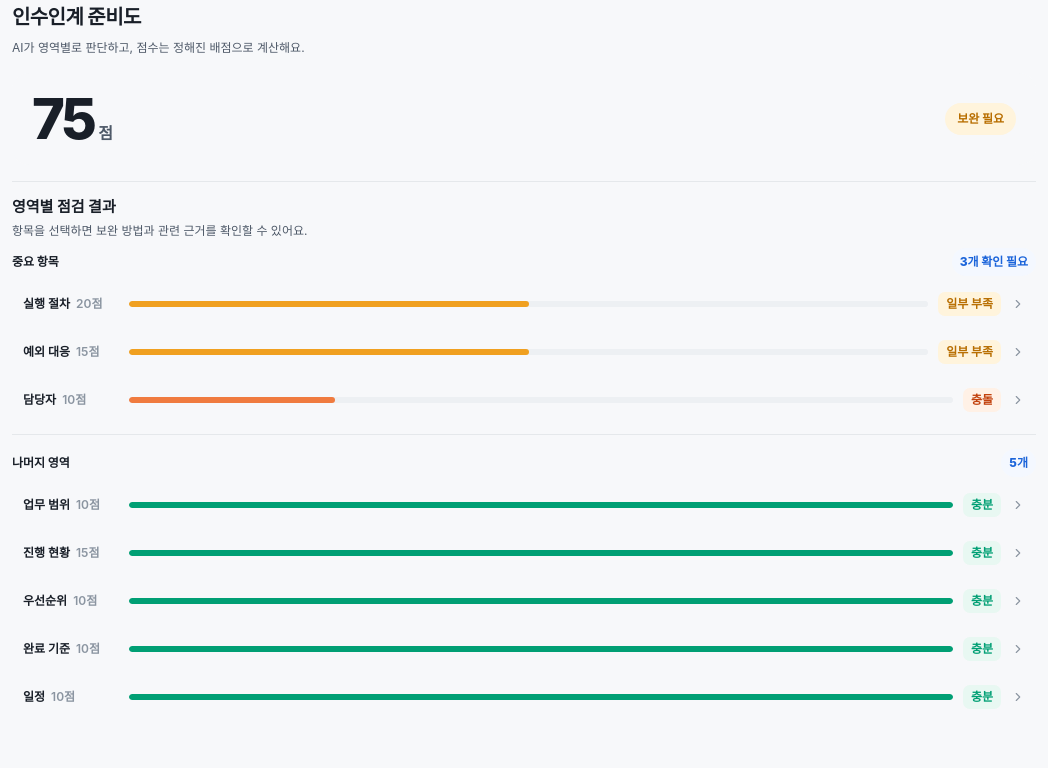
Test: ReadinessPanel › shows the score and the key issues with their evidence
Expected: the text "75" is shown, [32,91,94,147]
Expected: the text "보완 필요" is shown, [945,103,1016,135]
What coordinates should you click on to do the following:
click the button "실행 절차 20점 일부 부족"
I would click on:
 (524, 304)
Its box is [12,282,1036,326].
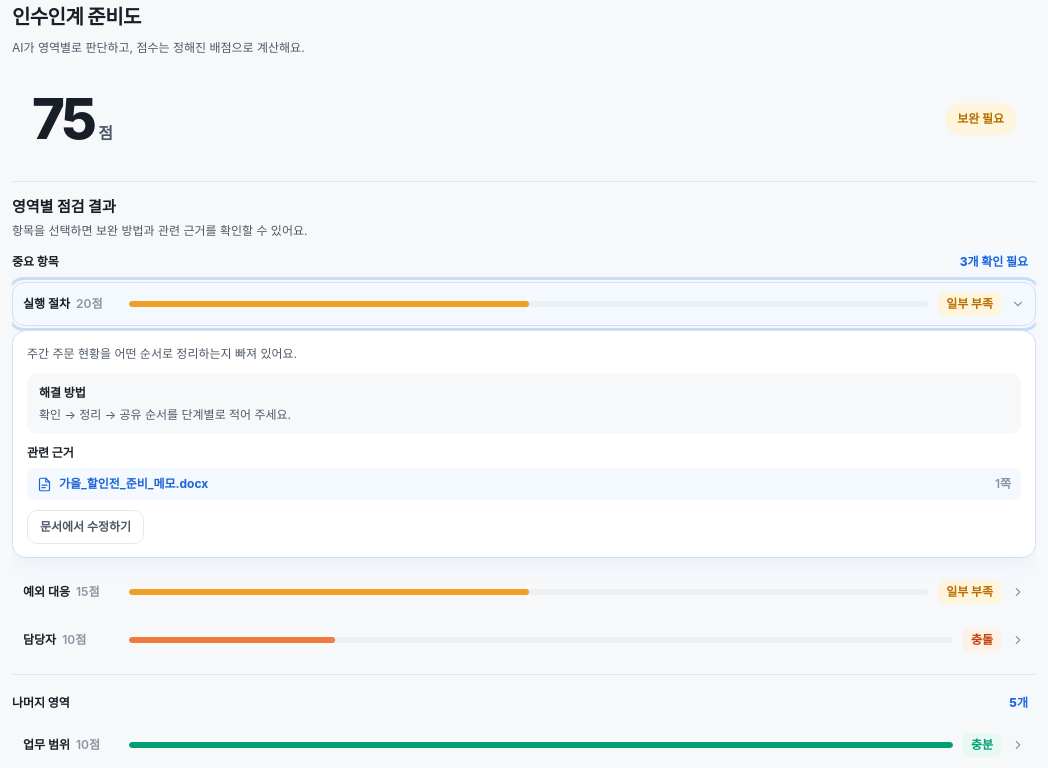
Result: the element named "실행 절차 자세히" shows "주간 주문 현황" at [27,346,297,361]
What coordinates should you click on to do the following:
click the button "예외 대응 15점 일부 부족"
I would click on:
 (524, 592)
Its box is [12,570,1036,614].
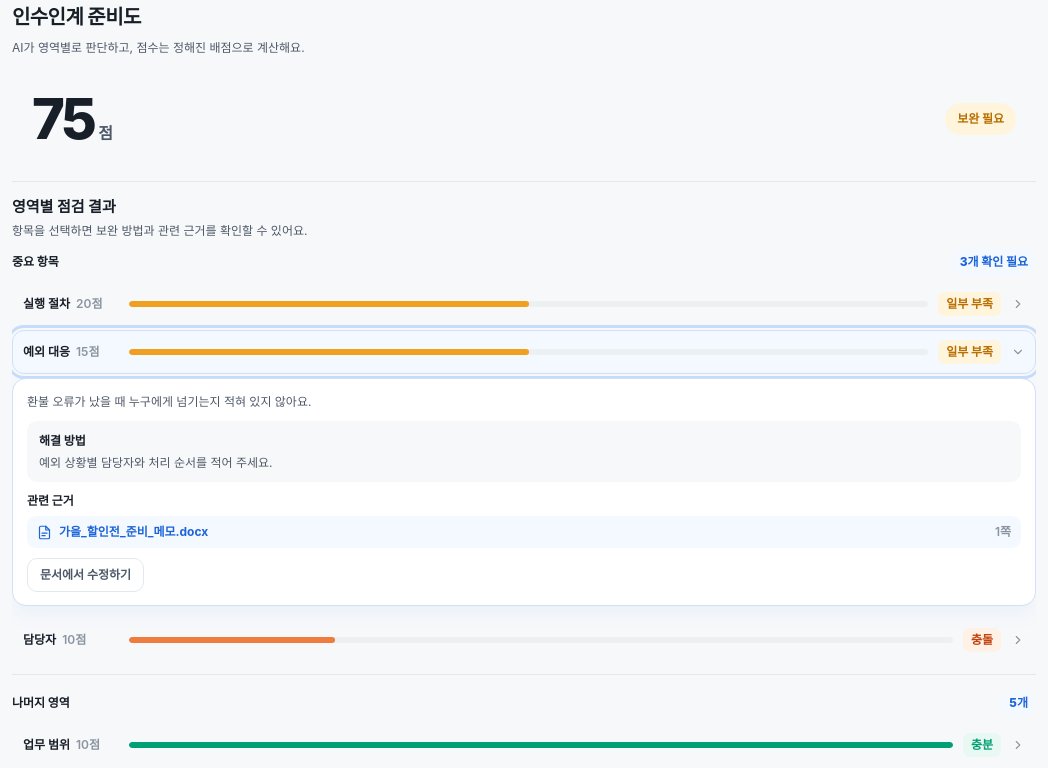
Result: the button "예외 대응 15점 일부 부족" is expanded at [12,330,1036,374]
Result: the button "실행 절차 20점 일부 부족" is collapsed at [12,282,1036,326]
What coordinates should you click on to do the following:
click the button "가을_할인전_준비_메모.docx 1쪽"
I would click on:
 (134, 532)
Its box is [27,516,1021,548].
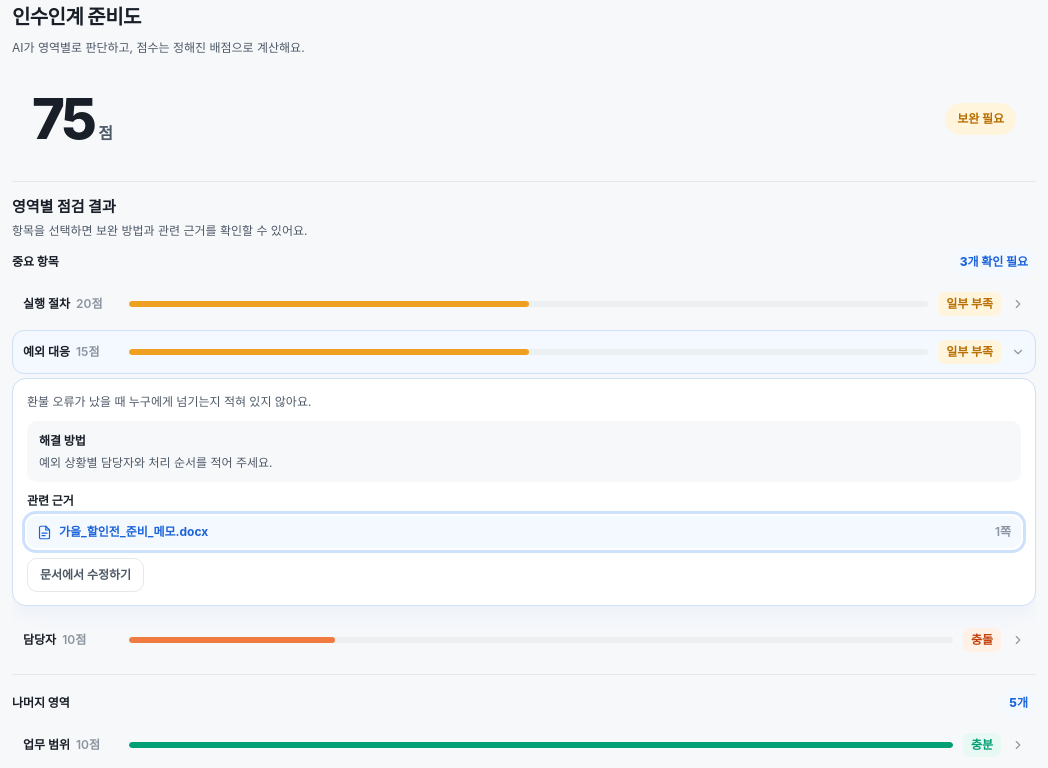
What coordinates should you click on to do the following:
click the button "문서에서 수정하기"
I would click on:
 (86, 575)
Its box is [27,558,144,592].
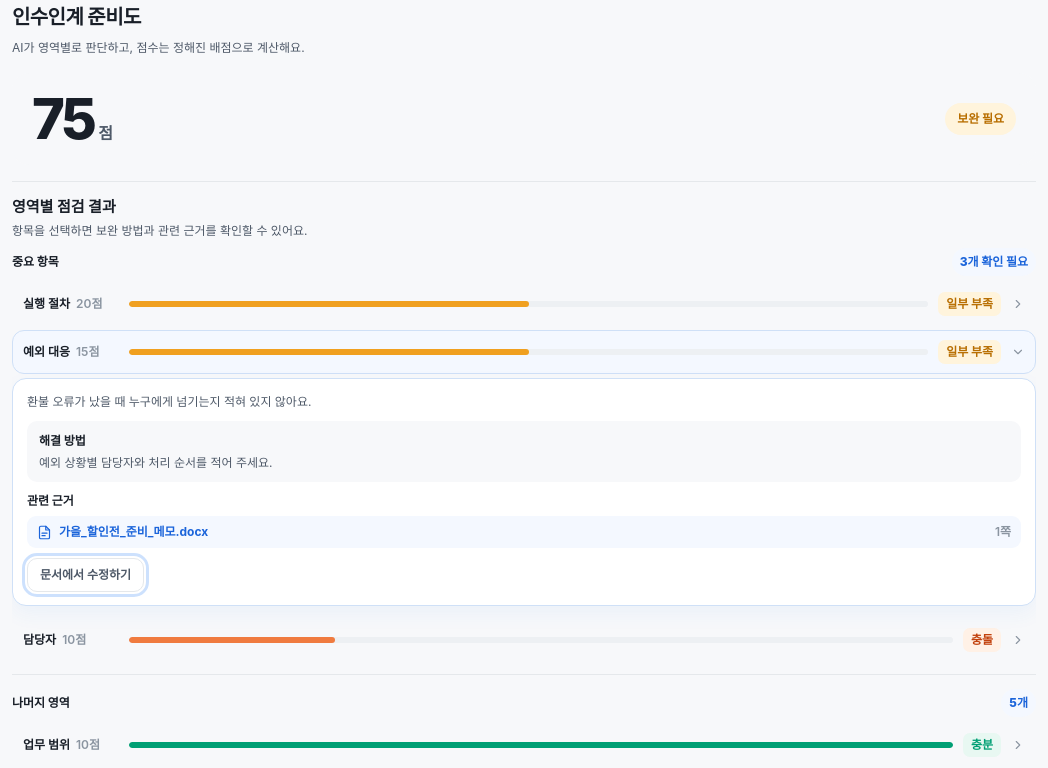
What coordinates should you click on to do the following:
click the button "예외 대응 15점 일부 부족"
I would click on:
 (524, 352)
Its box is [12,330,1036,374].
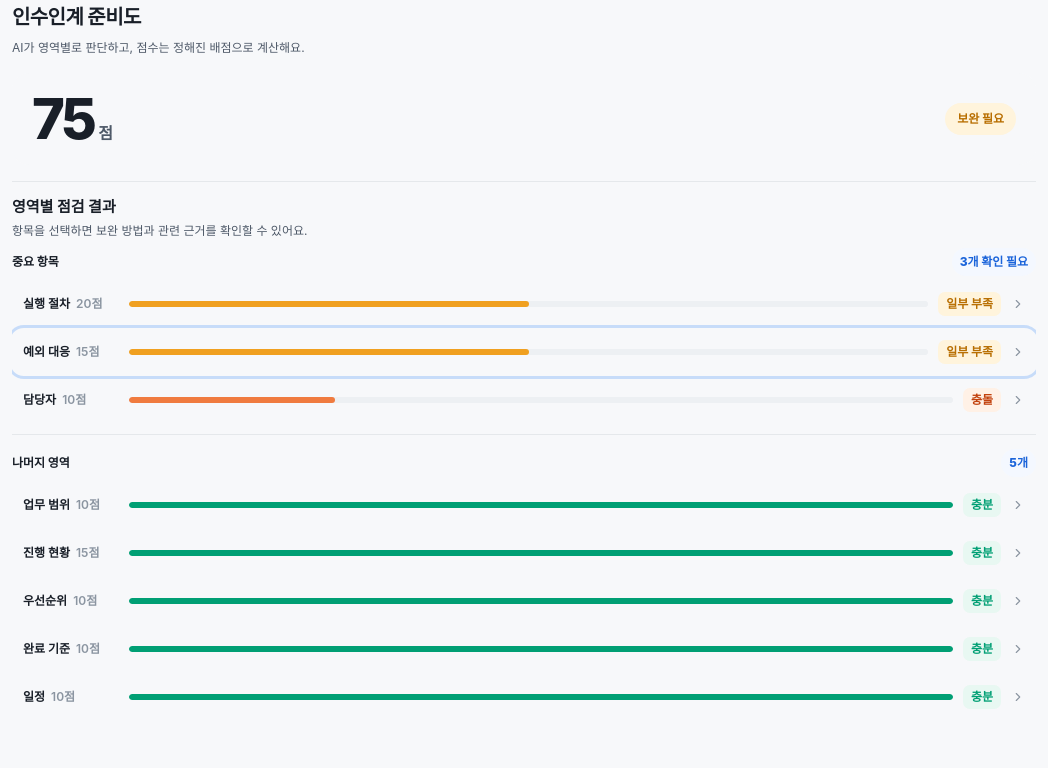
Result: the button "예외 대응 15점 일부 부족" is collapsed at [12,330,1036,374]
